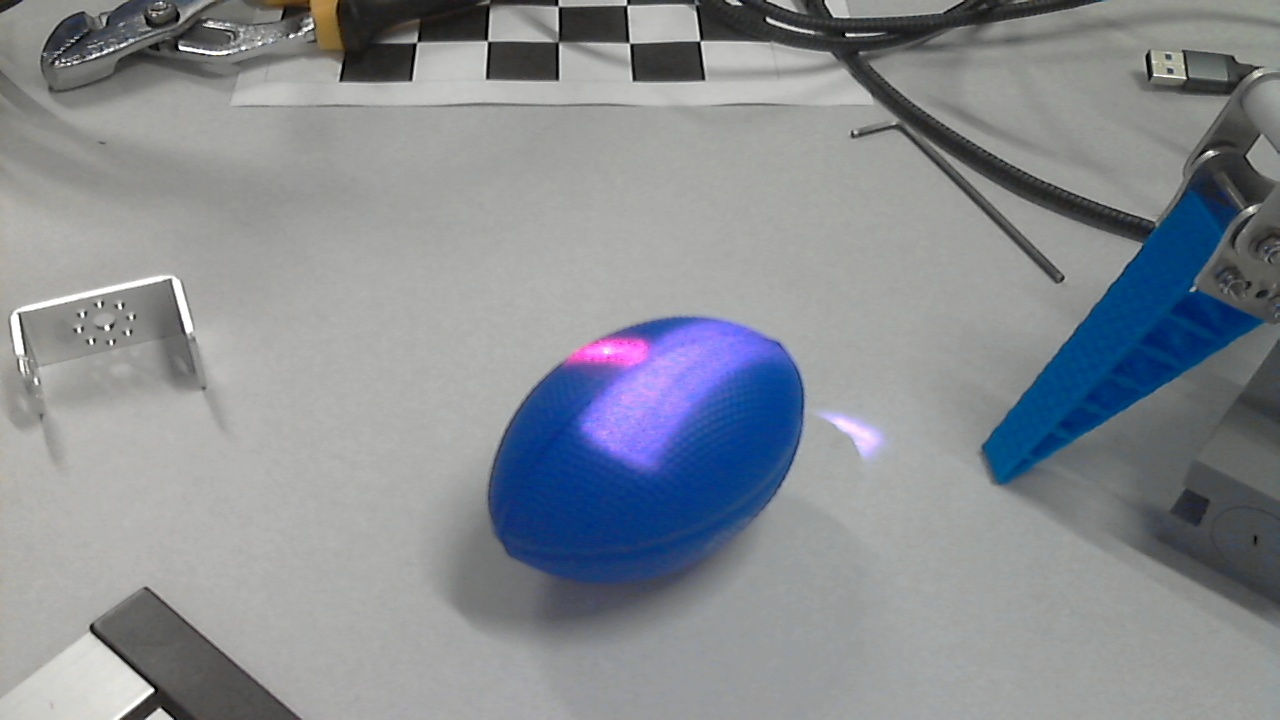Object rubber duck - Material rubber -Color blue - Pdfname BWuUnwTLudUE: (545, 322, 766, 466)
